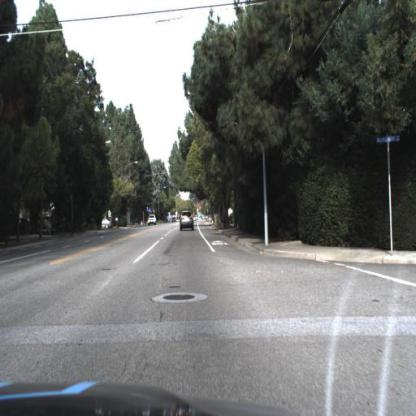car: (179, 207, 198, 233), (147, 213, 157, 228)
